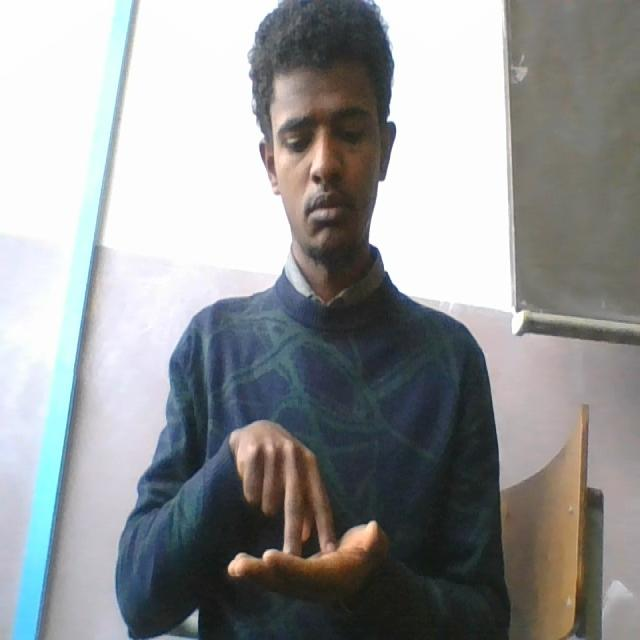mezlel: (220, 404, 397, 604)
